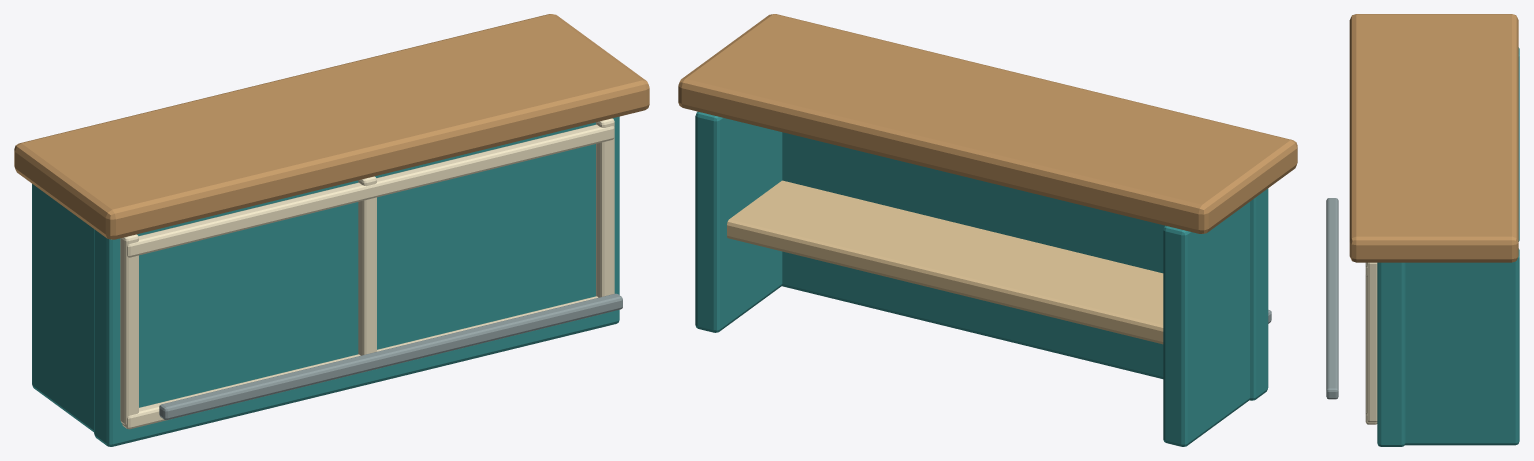
Rendered from S032_bar_counter.glb.
3 renders of one model, left to right at view 1: azimuth 30°, elevation 25°; view 2: azimuth 150°, elevation 25°; view 3: azimuth 270°, elevation 25°, orthographic. The views are drawn at different scales.
Parts seen in each view (by area): view 1: bar_front, bar_top, bar_end, front_rail.001, footrail, front_panel_trim, front_panel_trim.002, front_panel_trim.001, front_rail; view 2: bar_top, bar_front, inner_shelf, bar_end, bar_end.001; view 3: bar_top, bar_end.001, bar_front, footrail, front_panel_trim.002, bar_end, front_rail.
Boxes of the visible parts, <box> form: bar_front: <box>94,116,619,446</box>; bar_top: <box>14,14,649,239</box>; bar_end: <box>32,184,93,431</box>; front_rail.001: <box>127,124,614,257</box>; footrail: <box>159,293,622,419</box>; front_panel_trim: <box>120,234,138,425</box>; front_panel_trim.002: <box>596,118,614,297</box>; front_panel_trim.001: <box>358,176,376,355</box>; front_rail: <box>122,296,601,429</box>; bar_top: <box>678,14,1297,233</box>; bar_front: <box>782,132,1268,400</box>; inner_shelf: <box>727,180,1163,344</box>; bar_end: <box>1163,202,1249,446</box>; bar_end.001: <box>695,111,782,332</box>; bar_top: <box>1349,14,1518,262</box>; bar_end.001: <box>1405,248,1519,445</box>; bar_front: <box>1377,262,1405,446</box>; footrail: <box>1326,198,1338,399</box>; front_panel_trim.002: <box>1367,262,1377,422</box>; bar_end: <box>1518,47,1519,241</box>; front_rail: <box>1365,275,1377,424</box>.
Size of the model in its own units: 2.65 by 1.17 by 0.95.
